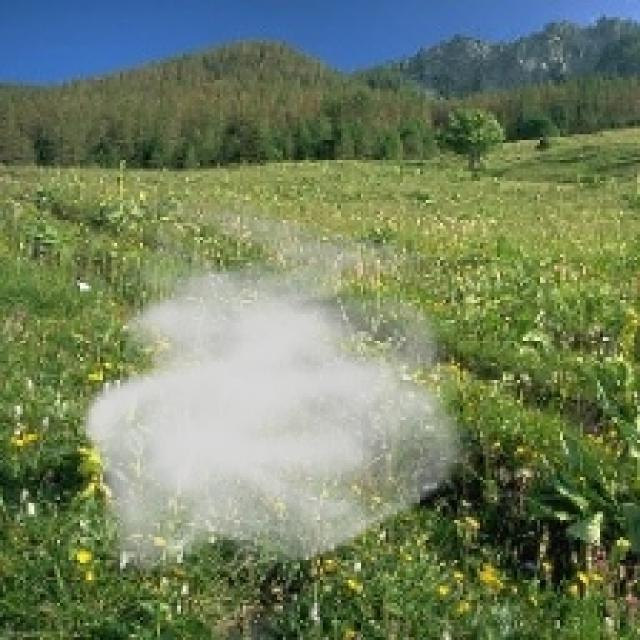Smoke: (77, 191, 480, 583)
